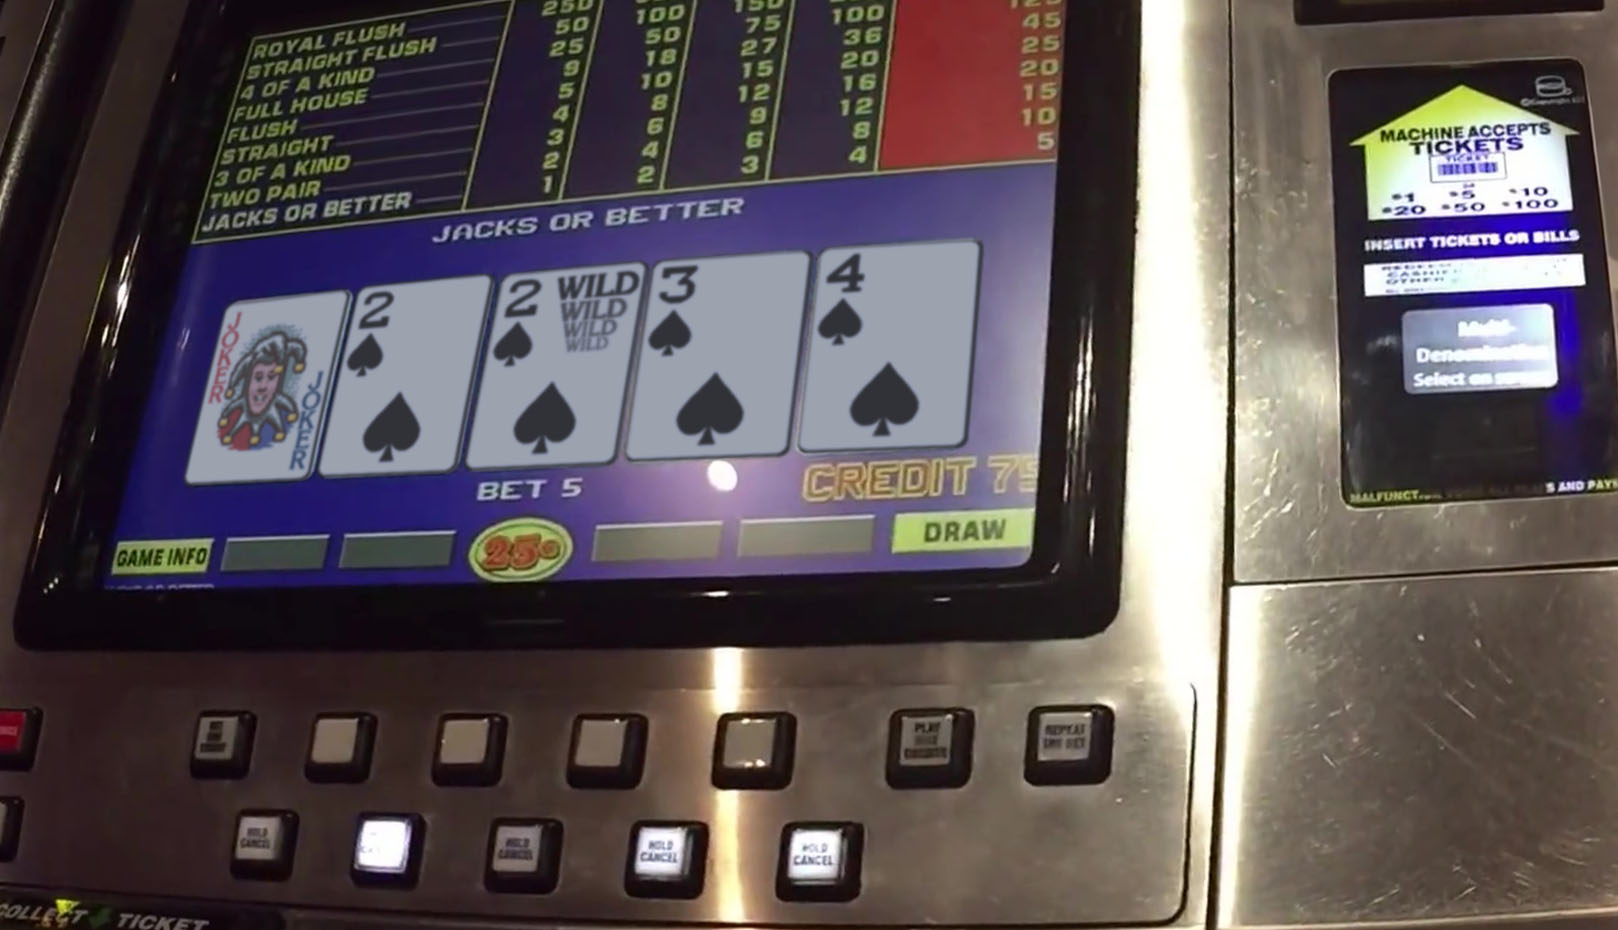S2: (344, 280, 477, 471)
S2W: (485, 268, 635, 464)
S3: (645, 256, 792, 460)
S4: (821, 248, 965, 444)
joker: (214, 296, 334, 477)
